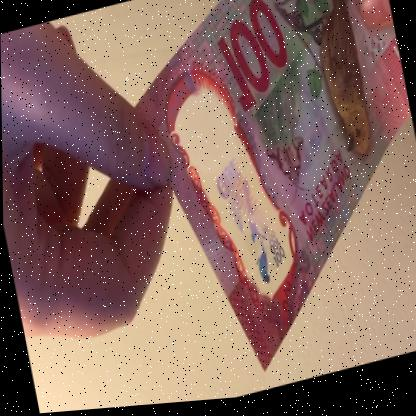100B: (208, 148, 291, 303)
